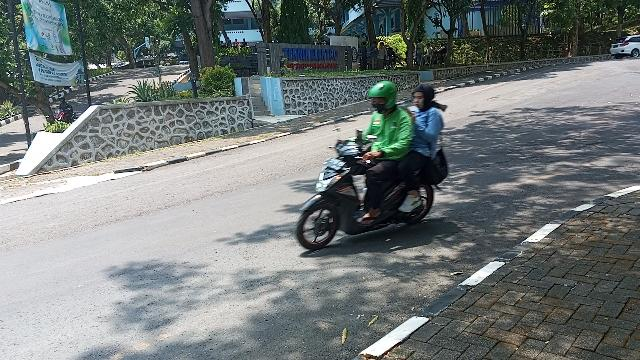helm: (369, 81, 400, 115)
motor: (295, 125, 447, 252)
non-helm: (411, 83, 437, 112)
